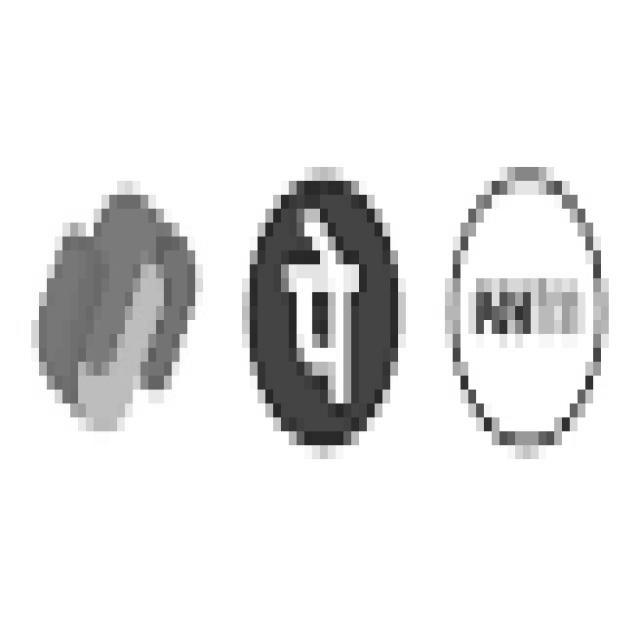fully_visible: (464, 263, 598, 371)
